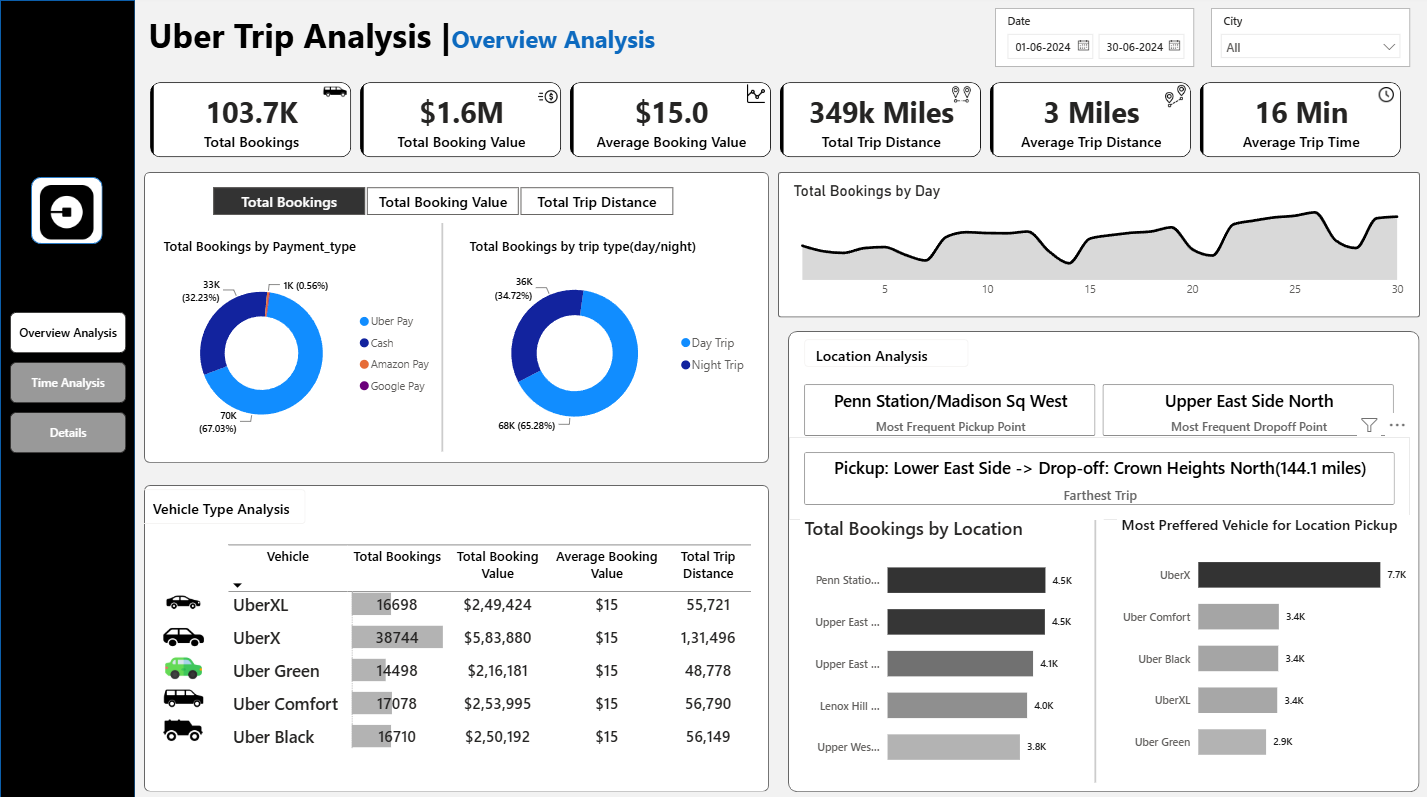

This screenshot's page, from the dashboard's own definition file:
{"tool":"powerbi","page":{"name":"Overview Analysis","canvas":[1600,900],"ordinal":0},"visuals":[{"type":"shape","box":[0,0,151.5,898.5],"z":0},{"type":"shape","box":[35.3,198.2,80.2,75],"z":0,"group":"g1"},{"type":"textbox","box":[161.6,9,616,66.2],"z":1000},{"type":"image","box":[35.3,207.3,80.2,60.8],"z":1000,"group":"g1"},{"type":"cardVisual","fields":{"Data":["Trip Details.Total Bookings","Trip Details.Total Booking Value","Trip Details.Average Baooking Amount","Trip Details.Total Trip Distance","Trip Details.Average Trip Distance","Trip Details.Average Trip Time"]},"box":[151.5,75.2,1437.3,118.9],"z":2000},{"type":"image","box":[1065.9,90.9,21.3,30.3],"z":3000},{"type":"image","box":[1540.5,97.6,23.6,16.8],"z":4000},{"type":"image","box":[1303.8,94.2,24.7,26.9],"z":5000},{"type":"image","box":[602.5,95.4,22.4,25.8],"z":6000},{"type":"image","box":[831.4,93.1,29.2,23.6],"z":7000},{"type":"image","box":[360.2,85.3,29.2,34.8],"z":8000},{"type":"shape","box":[161.5,192.1,699.5,325.6],"z":9000},{"type":"slicer","fields":{"Values":["Dynamic measure.Dynamic measure"]},"box":[212.4,202.2,564.7,39.4],"z":10000},{"type":"donutChart","fields":{"Y":["Trip Details.Total Bookings"],"Category":["Trip Details.Payment_type"]},"box":[178.4,264.8,316.4,240.1],"z":11000},{"type":"donutChart","fields":{"Y":["Trip Details.Total Bookings"],"Category":["Trip Details.trip type (day/night)"]},"box":[520.6,264.8,326.5,240.1],"z":12000},{"type":"shape","box":[161.5,543.1,699.5,343.4],"z":13000},{"type":"pivotTable","fields":{"Rows":["Trip Details.Vehicle"],"Values":["Trip Details.Total Bookings","Trip Details.Total Booking Value","Trip Details.Average Booking Value","Trip Details.Total Trip Distance Measure"]},"box":[250.6,604.1,596.5,263.3],"z":14000},{"type":"image","box":[178.7,689.3,53.4,47.1],"z":15000},{"type":"image","box":[178.1,727.5,54.7,40.7],"z":16000},{"type":"image","box":[176.8,756.8,57.2,49.6],"z":17000},{"type":"image","box":[176.8,652.5,57.2,43.2],"z":18000},{"type":"image","box":[177.4,796.2,56,43.2],"z":19000},{"type":"cardVisual","fields":{"Data":["Trip Details.title for grid"]},"box":[141.2,530.4,218.8,73.8],"z":20000},{"type":"shape","box":[871.2,192.1,718.6,162.8],"z":21000},{"type":"areaChart","fields":{"Category":["Calendar Table.Date.Variation.Date Hierarchy.Day"],"Y":["Trip Details.Total Bookings"]},"box":[882.7,203.5,695.7,138.6],"z":22000},{"type":"shape","box":[881.9,370.3,706.9,516.1],"z":23000},{"type":"cardVisual","fields":{"Data":["Trip Details.Most Frequent Pickup Point","Trip Details.Most Frequent Dropoff Point"]},"box":[883,412.9,695.7,92],"z":24000},{"type":"cardVisual","fields":{"Data":["Trip Details.Farthest Trip"]},"box":[883,489.2,695.7,93.1],"z":25000},{"type":"barChart","fields":{"Category":["Location Table.Location"],"Y":["Trip Details.Total Bookings"]},"box":[895.4,576.7,340,299.6],"z":26000},{"type":"barChart","title":"Most Preffered Vehicle for Location Pickup","fields":{"Category":["Trip Details.Vehicle"],"Y":["CountNonNull(Trip Details.PULocationID)"]},"box":[1249.9,576.7,328.8,294],"z":27000},{"type":"shape","box":[344.5,249.1,300.7,255.8],"z":28000},{"type":"shape","box":[1076,582.3,300.7,294],"z":29000},{"type":"cardVisual","fields":{"Data":["Trip Details.Title for Location"]},"box":[883,362.4,218.8,65.1],"z":30000},{"type":"slicer","fields":{"Values":["Calendar Table.Date"]},"box":[1114.2,9,223.3,66.2],"z":31000},{"type":"slicer","fields":{"Values":["Location Table.City"]},"box":[1355.4,9,223.3,66.2],"z":32000},{"type":"group","id":"g1","title":"Group 1","box":[35.3,198.2,80.2,74.2],"z":33000},{"type":"pageNavigator","box":[10.9,348.9,130.1,158.1],"z":34000}]}

Visuals, with their boxes in screenshot pixels (x1, y1, x2, y2), scaled from the page's 1600x900 canvas onto the 1427x797 screenshot:
shape: {"left": 0, "top": 0, "right": 135, "bottom": 796}
shape: {"left": 31, "top": 176, "right": 103, "bottom": 242}
textbox: {"left": 144, "top": 8, "right": 694, "bottom": 67}
image: {"left": 31, "top": 184, "right": 103, "bottom": 237}
cardVisual - Trip Details.Total Bookings x Trip Details.Total Booking Value: {"left": 135, "top": 67, "right": 1417, "bottom": 172}
image: {"left": 951, "top": 80, "right": 970, "bottom": 107}
image: {"left": 1374, "top": 86, "right": 1395, "bottom": 101}
image: {"left": 1163, "top": 83, "right": 1185, "bottom": 107}
image: {"left": 537, "top": 84, "right": 557, "bottom": 107}
image: {"left": 742, "top": 82, "right": 768, "bottom": 103}
image: {"left": 321, "top": 76, "right": 347, "bottom": 106}
shape: {"left": 144, "top": 170, "right": 768, "bottom": 458}
slicer - Dynamic measure.Dynamic measure: {"left": 189, "top": 179, "right": 693, "bottom": 214}
donutChart - Trip Details.Total Bookings x Trip Details.Payment_type: {"left": 159, "top": 234, "right": 441, "bottom": 447}
donutChart - Trip Details.Total Bookings x Trip Details.trip type (day/night): {"left": 464, "top": 234, "right": 756, "bottom": 447}
shape: {"left": 144, "top": 481, "right": 768, "bottom": 785}
pivotTable - Trip Details.Vehicle x Trip Details.Total Bookings: {"left": 224, "top": 535, "right": 756, "bottom": 768}
image: {"left": 159, "top": 610, "right": 207, "bottom": 652}
image: {"left": 159, "top": 644, "right": 208, "bottom": 680}
image: {"left": 158, "top": 670, "right": 209, "bottom": 714}
image: {"left": 158, "top": 578, "right": 209, "bottom": 616}
image: {"left": 158, "top": 705, "right": 208, "bottom": 743}
cardVisual - Trip Details.title for grid: {"left": 126, "top": 470, "right": 321, "bottom": 535}
shape: {"left": 777, "top": 170, "right": 1418, "bottom": 314}
areaChart - Calendar Table.Date.Variation.Date Hierarchy.Day x Trip Details.Total Bookings: {"left": 787, "top": 180, "right": 1408, "bottom": 303}
shape: {"left": 787, "top": 328, "right": 1417, "bottom": 785}
cardVisual - Trip Details.Most Frequent Pickup Point x Trip Details.Most Frequent Dropoff Point: {"left": 788, "top": 366, "right": 1408, "bottom": 447}
cardVisual - Trip Details.Farthest Trip: {"left": 788, "top": 433, "right": 1408, "bottom": 516}
barChart - Location Table.Location x Trip Details.Total Bookings: {"left": 799, "top": 511, "right": 1102, "bottom": 776}
"Most Preffered Vehicle for Location Pickup" barChart: {"left": 1115, "top": 511, "right": 1408, "bottom": 771}
shape: {"left": 307, "top": 221, "right": 575, "bottom": 447}
shape: {"left": 960, "top": 516, "right": 1228, "bottom": 776}
cardVisual - Trip Details.Title for Location: {"left": 788, "top": 321, "right": 983, "bottom": 379}
slicer - Calendar Table.Date: {"left": 994, "top": 8, "right": 1193, "bottom": 67}
slicer - Location Table.City: {"left": 1209, "top": 8, "right": 1408, "bottom": 67}
"Group 1" group: {"left": 31, "top": 176, "right": 103, "bottom": 241}
pageNavigator: {"left": 10, "top": 309, "right": 126, "bottom": 449}
